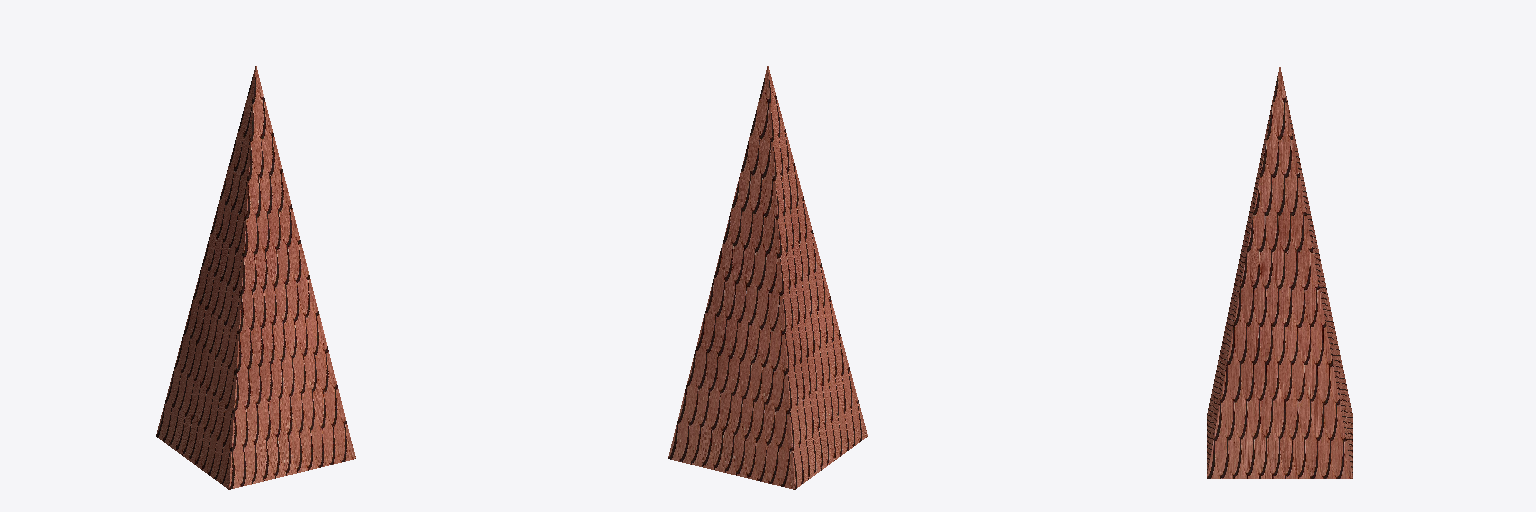
3 renders of one model, left to right at view 1: azimuth 30°, elevation 25°; view 2: azimuth 150°, elevation 25°; view 3: azimuth 270°, elevation 25°, orthographic.
Visible parts, largest first — view 1: Pyramid001; view 2: Pyramid001; view 3: Pyramid001.
Boxes of the visible parts, box(x1,y1,x2,y2) form: Pyramid001: box(156, 66, 355, 489); Pyramid001: box(668, 66, 867, 489); Pyramid001: box(1207, 67, 1352, 478).
Size of the model in its own units: 16.08 by 46.34 by 16.06.
1 materials, 1 textured.